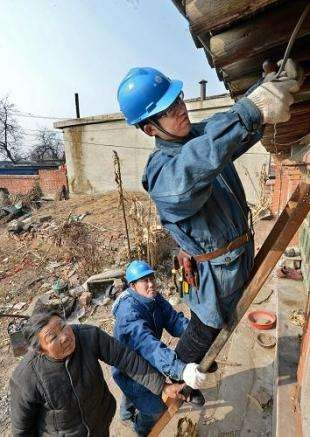blue: (116, 64, 192, 139), (122, 257, 159, 301)
none: (26, 305, 78, 360)
